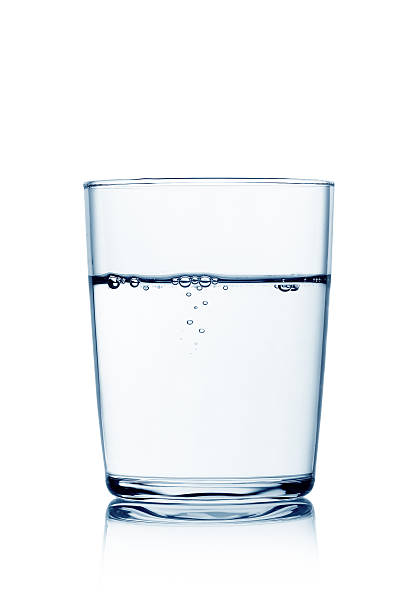glass of water: (78, 165, 343, 533)
